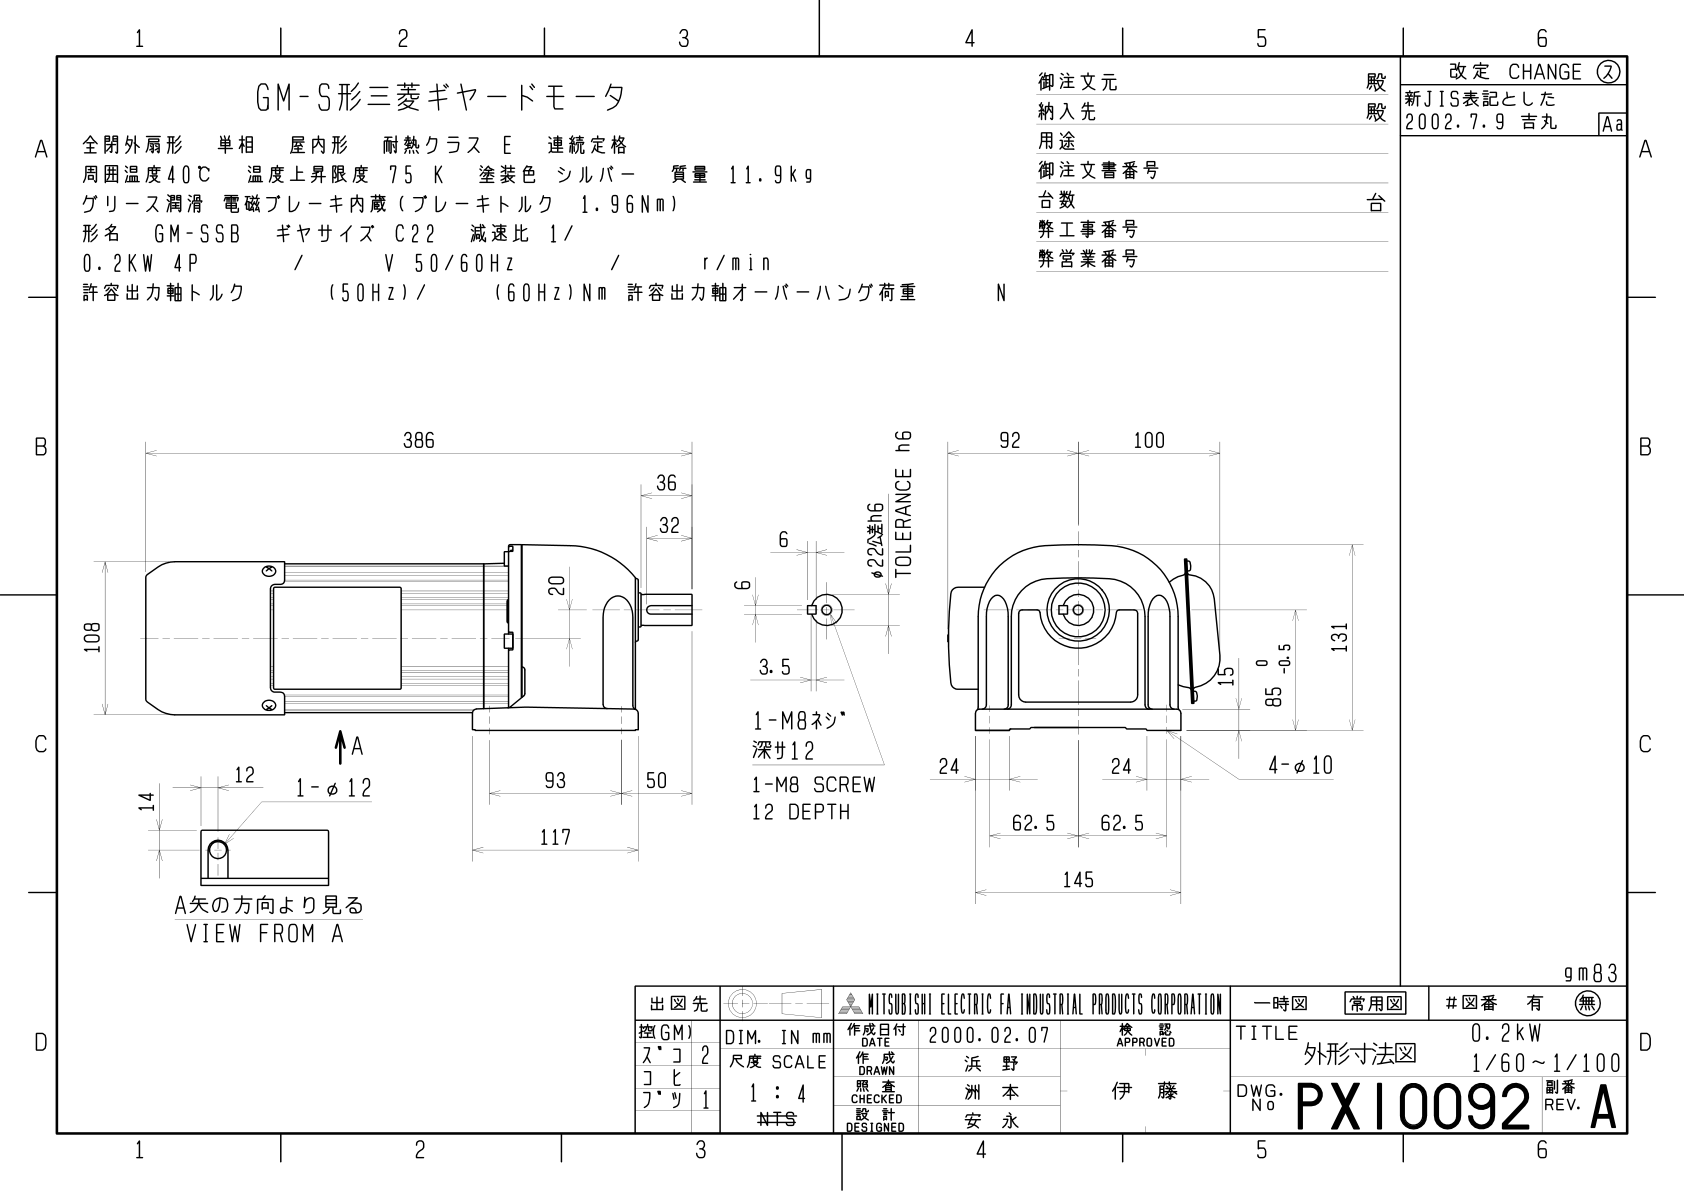GM_S_屋内＿三相_脚: (71, 375, 1383, 955)
